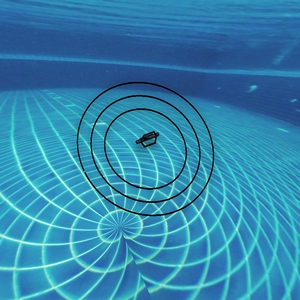circle: (62, 83, 219, 218)
